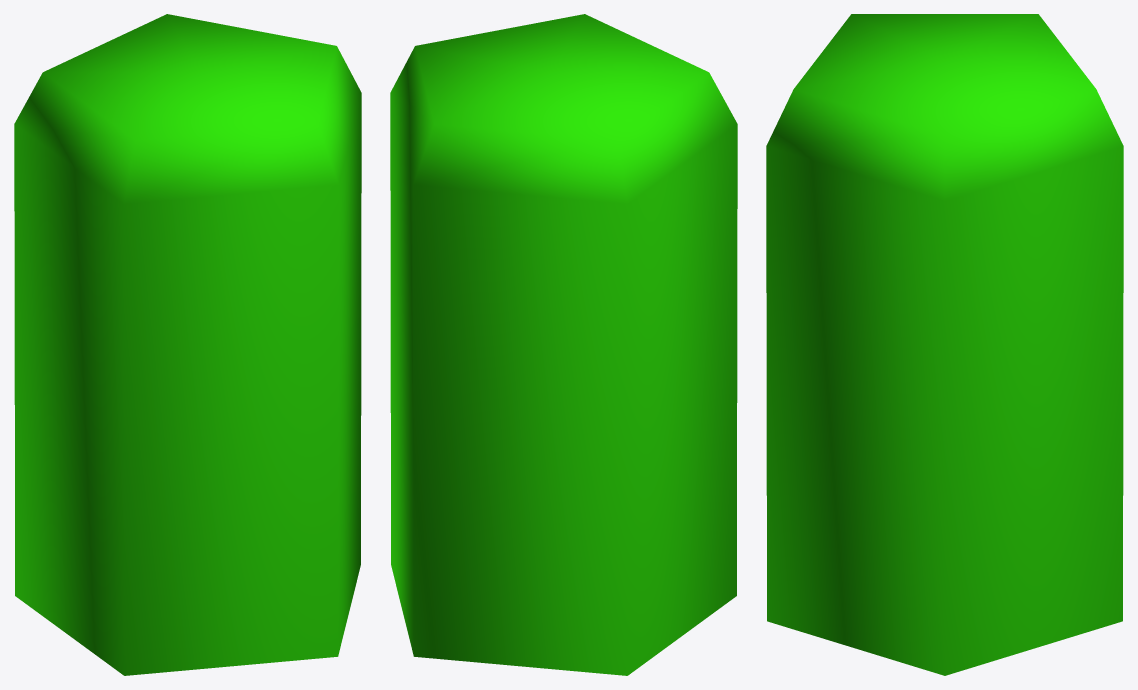
The model's file is Soda_Can_03_Lod2.fbx.
3 views of the same model, side by side, from view 1: azimuth 30°, elevation 25°; view 2: azimuth 150°, elevation 25°; view 3: azimuth 270°, elevation 25° (orthographic).
Parts seen in each view (by area): view 1: Soda_Can_03_Lod2; view 2: Soda_Can_03_Lod2; view 3: Soda_Can_03_Lod2.
Part boxes in pixels (<box>): Soda_Can_03_Lod2: <box>14,14,361,675</box>; Soda_Can_03_Lod2: <box>390,14,737,675</box>; Soda_Can_03_Lod2: <box>766,14,1123,675</box>.
Size of the model in its own units: 8.07 by 14.43 by 8.49.
